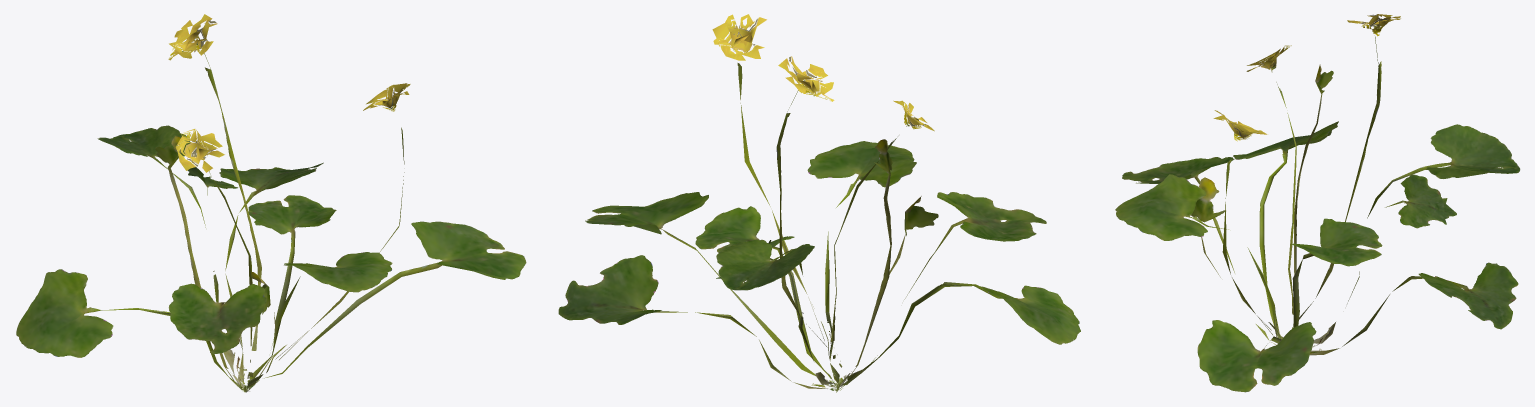
The model's file is perennial-gold-lod1.glb.
The picture shows the model from 3 angles, left to right: view 1: azimuth 30°, elevation 25°; view 2: azimuth 150°, elevation 25°; view 3: azimuth 270°, elevation 25°; orthographic projection. The views are drawn at different scales.
Parts seen in each view (by area): view 1: foliage; view 2: foliage; view 3: foliage.
Boxes of the visible parts, x1,y1,x2,y2 form: foliage: (16,14,526,392); foliage: (558,14,1080,392); foliage: (1115,14,1520,392).
Size of the model in its own units: 0.2571 by 0.1751 by 0.1863.
1 material, 1 textured.
